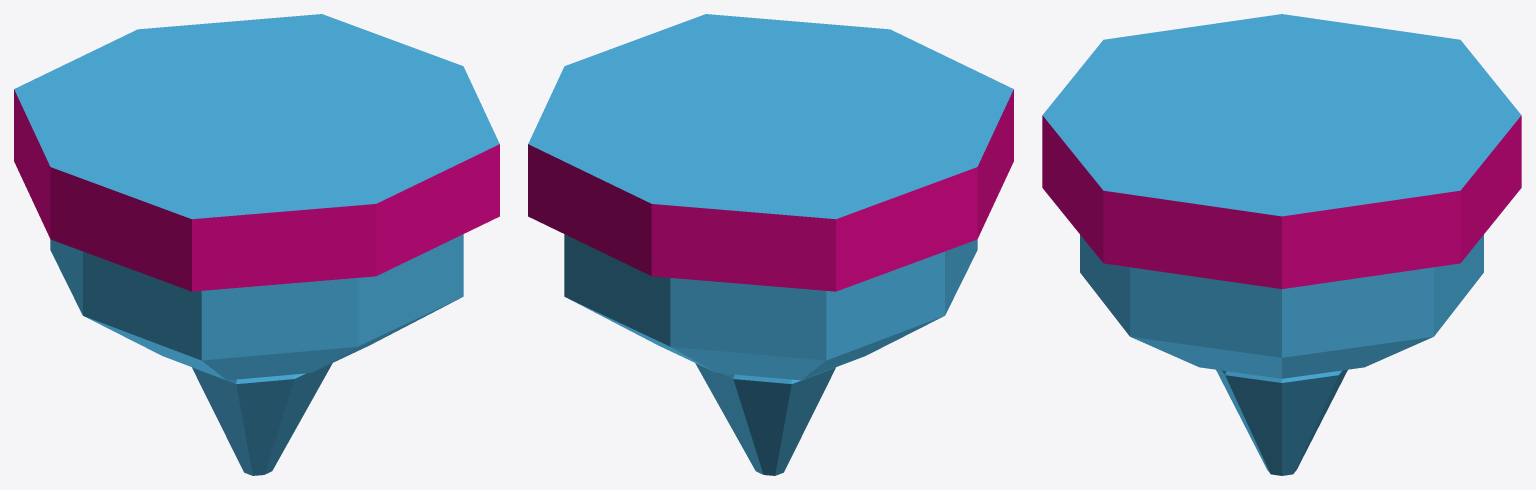
File: C_Light.fbx
3 views of the same model, side by side, from view 1: azimuth 30°, elevation 25°; view 2: azimuth 150°, elevation 25°; view 3: azimuth 270°, elevation 25° (orthographic).
Parts seen in each view (by area): view 1: Cube.001; view 2: Cube.001; view 3: Cube.001.
Boxes of the visible parts, box(x1,y1,x2,y2) form: Cube.001: box(14, 14, 499, 475); Cube.001: box(528, 14, 1013, 475); Cube.001: box(1042, 14, 1521, 475).
Size of the model in its own units: 51.34 by 41.92 by 51.34.
